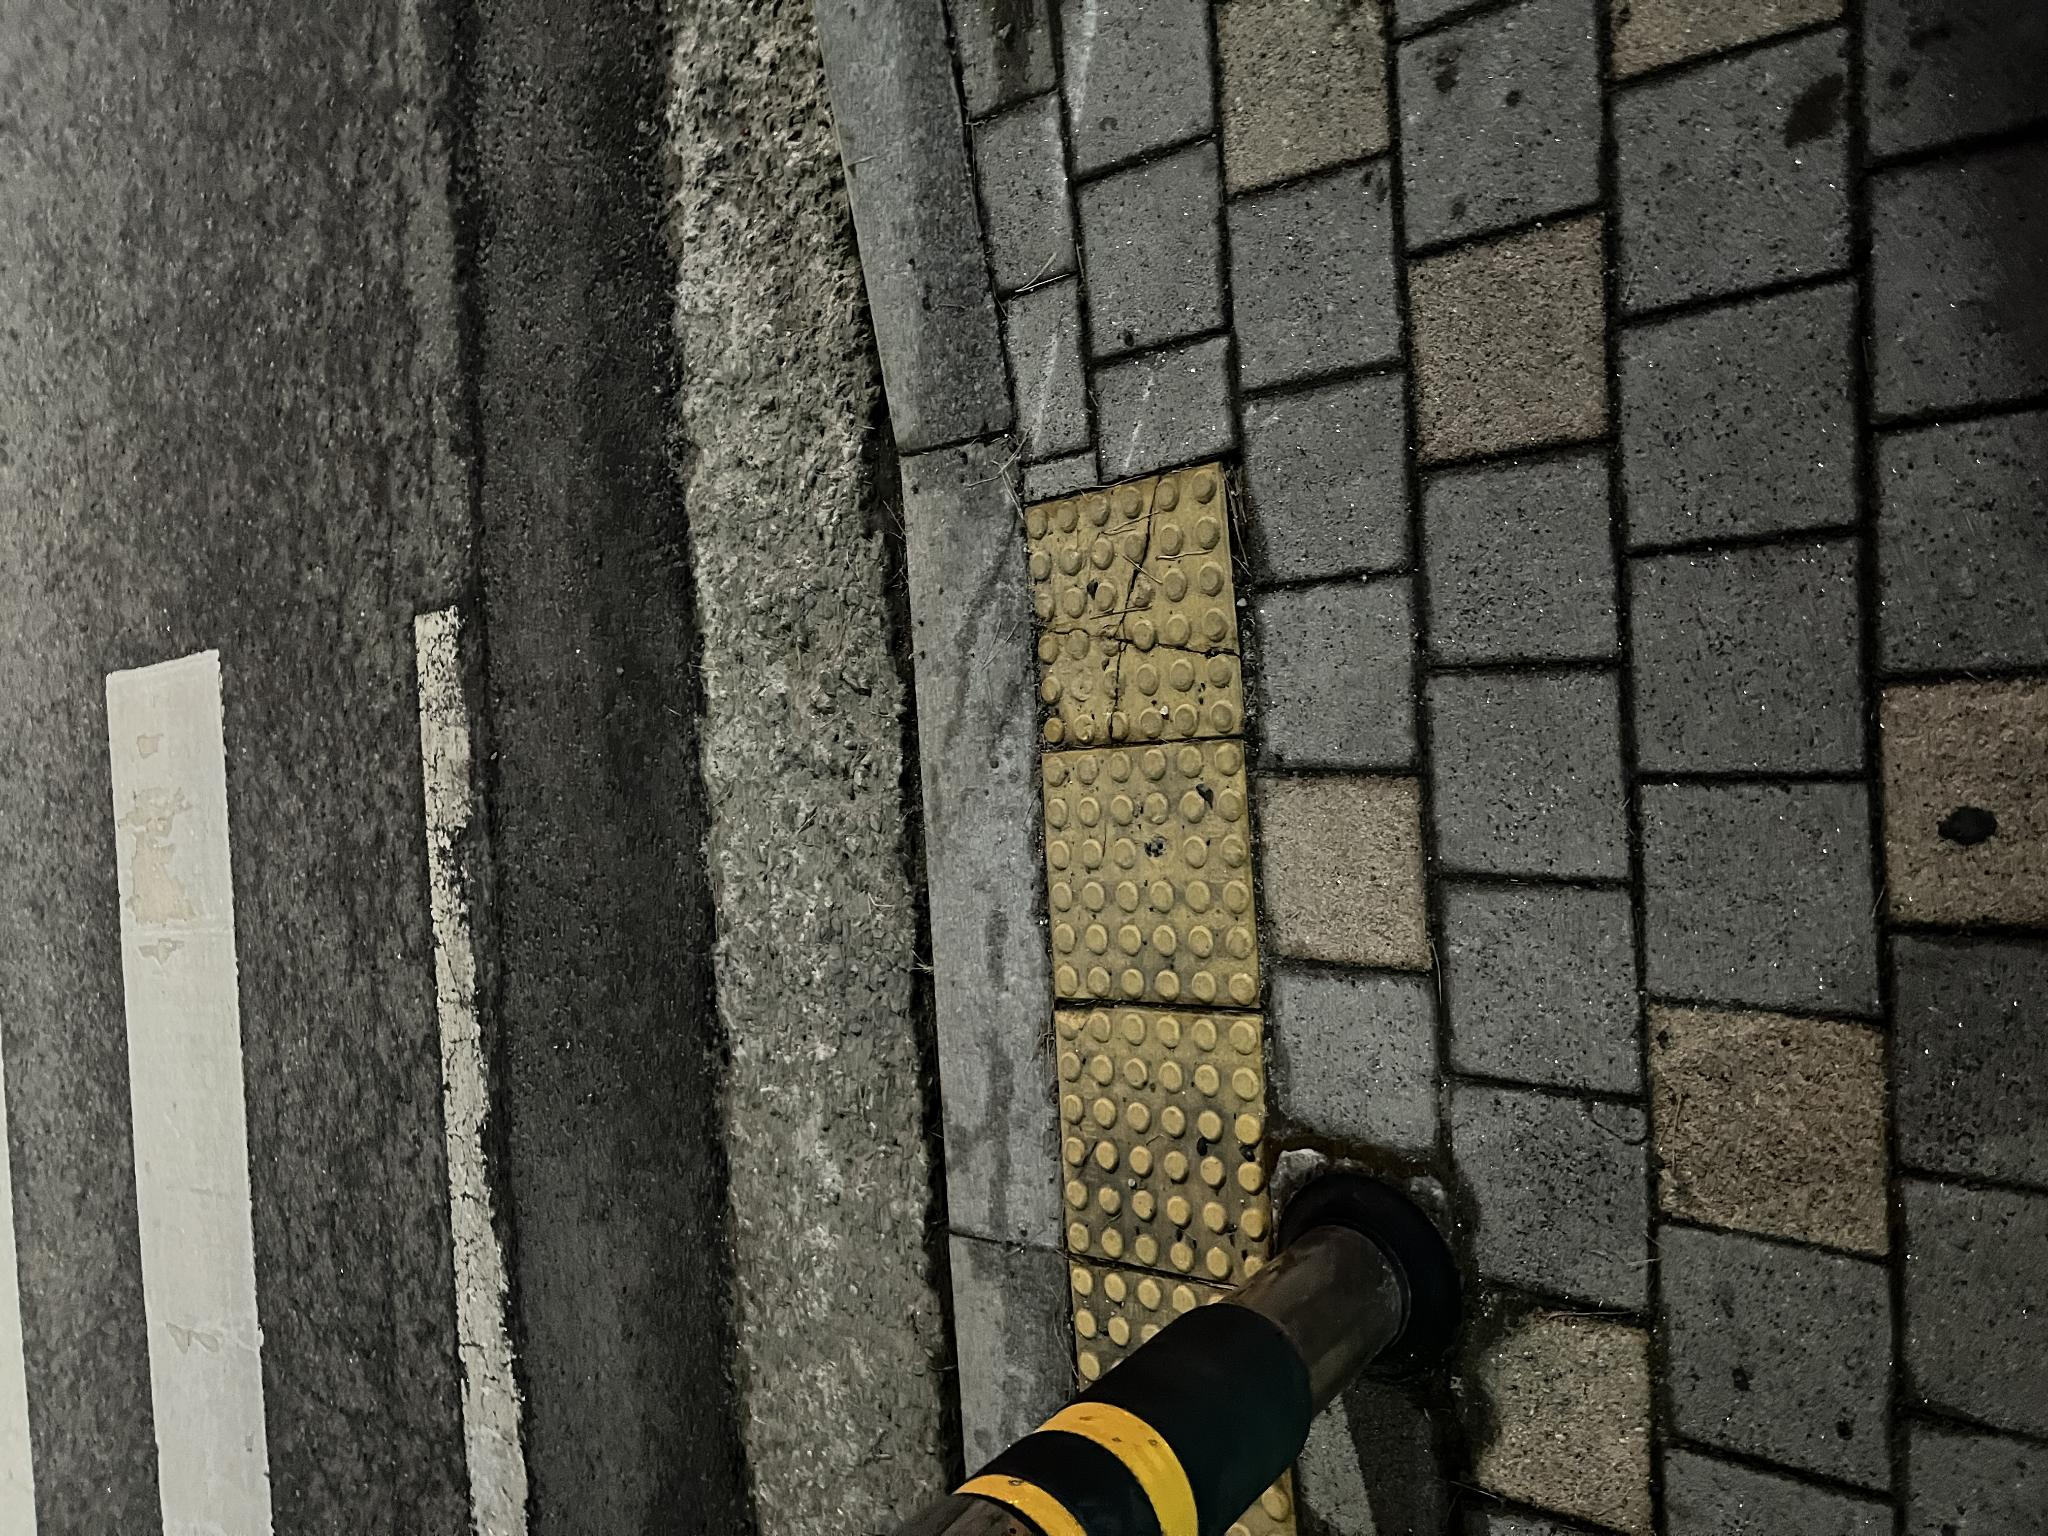Stop block broken: (787, 1026, 1072, 1241)
Stop block normal: (245, 1058, 526, 1267), (531, 1042, 793, 1262)
